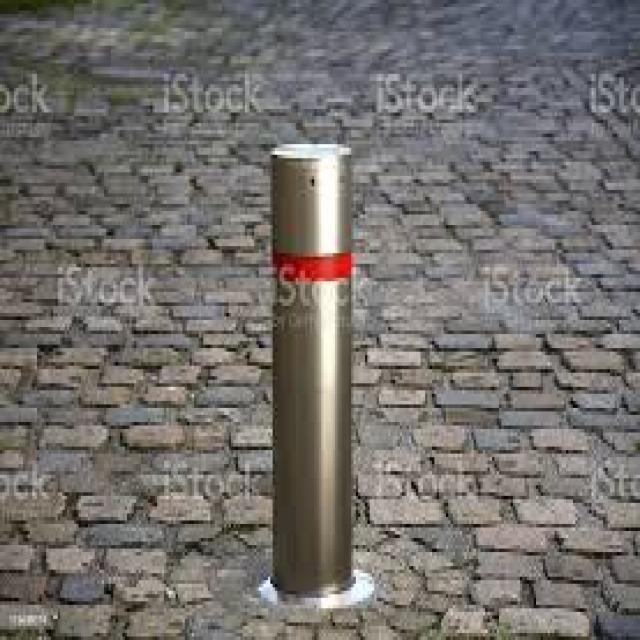bollard: (259, 132, 371, 612)
